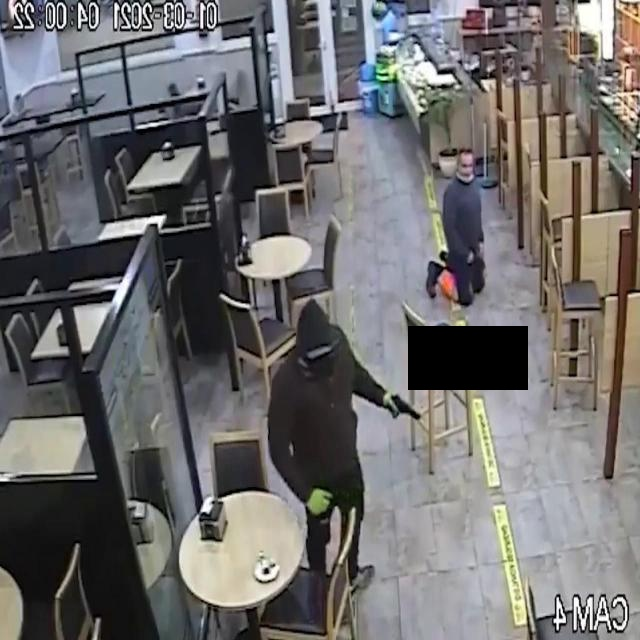gun: (374, 379, 436, 441)
